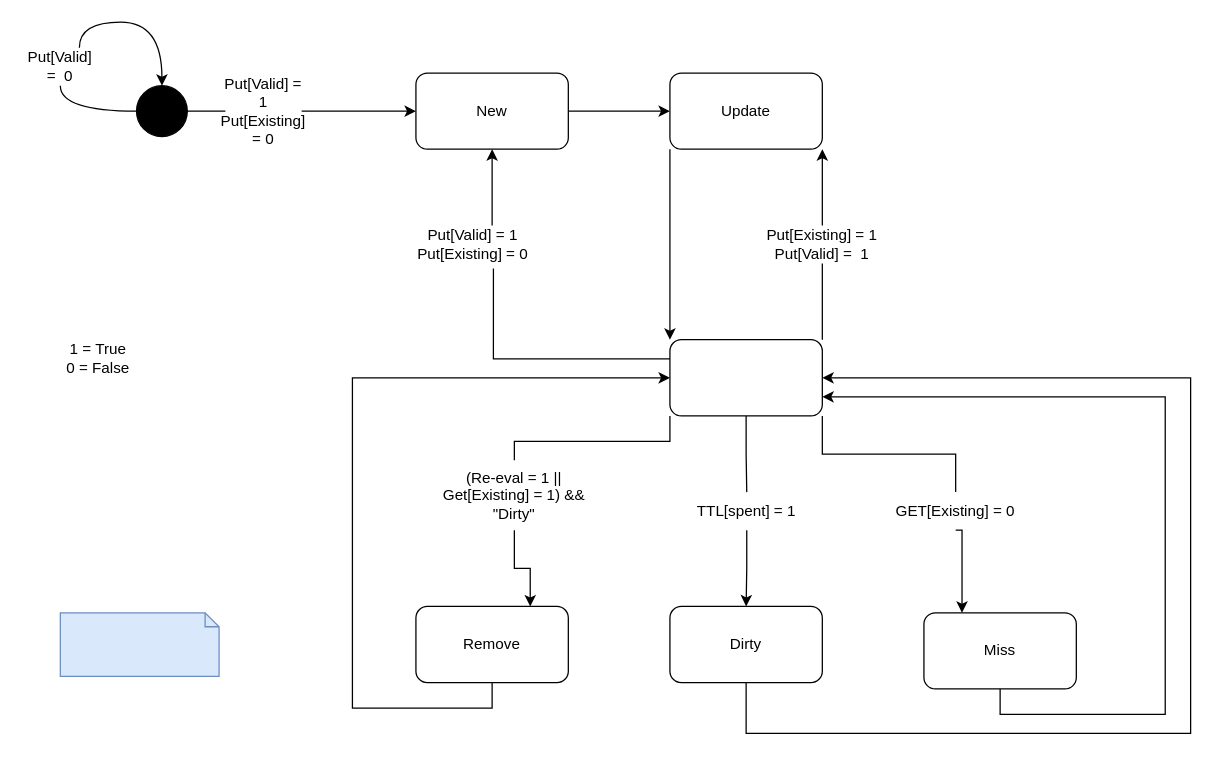
This 1223x766 diagram has some shape labels left out. Each missing label, with the box of its shape:
AS-EX 4.4 Grupo 601 (DF, DC, ST, FC) v2022/03/30: (59, 612, 219, 676)
Idle: (669, 338, 822, 416)
